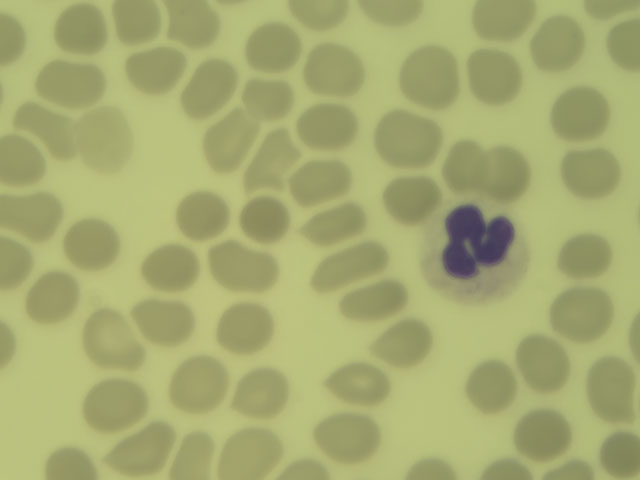RBC: (399, 41, 459, 106), (374, 109, 440, 167), (546, 288, 614, 341), (43, 55, 110, 108), (556, 145, 620, 200), (515, 331, 570, 394), (75, 104, 130, 167), (584, 358, 640, 418), (319, 245, 398, 286), (85, 305, 138, 365), (168, 355, 222, 411), (224, 423, 276, 480), (248, 129, 294, 193), (554, 86, 605, 142), (338, 280, 411, 319), (207, 102, 251, 166), (25, 266, 78, 318), (84, 381, 140, 430), (530, 18, 584, 68), (9, 103, 76, 143), (171, 191, 228, 238), (441, 139, 489, 194), (316, 415, 375, 458), (144, 246, 200, 291), (516, 411, 572, 456), (463, 362, 519, 407), (555, 232, 611, 277), (380, 173, 436, 218), (472, 148, 528, 193), (304, 45, 360, 90), (243, 23, 299, 68), (52, 4, 108, 49), (125, 46, 181, 91), (299, 102, 355, 147), (291, 158, 347, 203), (376, 317, 432, 362), (328, 358, 384, 403), (232, 370, 288, 415), (239, 195, 295, 240), (216, 304, 272, 349), (134, 298, 190, 343), (114, 426, 170, 471), (300, 205, 356, 250), (212, 243, 268, 288), (62, 220, 118, 265), (239, 75, 295, 120), (468, 52, 518, 102), (159, 1, 215, 45), (101, 1, 157, 45), (1, 189, 55, 234), (184, 61, 228, 116), (469, 1, 528, 40), (43, 438, 97, 480), (175, 425, 215, 480), (1, 134, 45, 180), (604, 428, 640, 480), (361, 1, 422, 30), (605, 19, 640, 68), (1, 15, 30, 63), (292, 1, 346, 26), (1, 237, 28, 283), (483, 456, 531, 480), (407, 457, 454, 480)
WBC: (422, 207, 522, 307)
